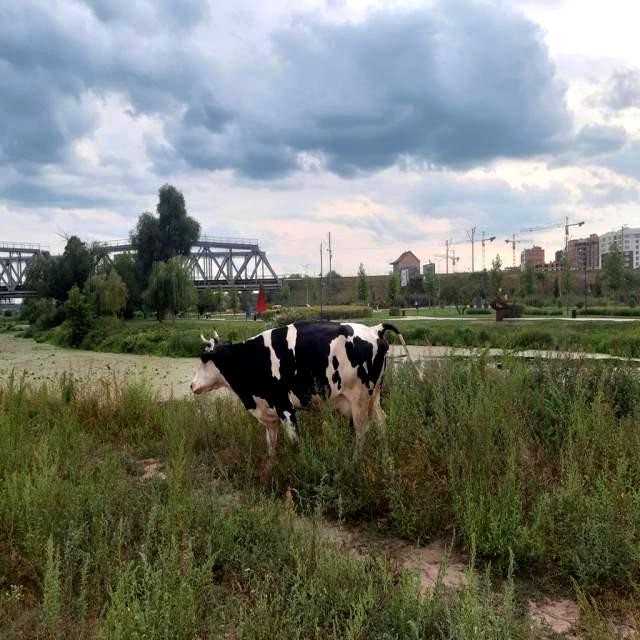COW: (191, 321, 400, 457)
